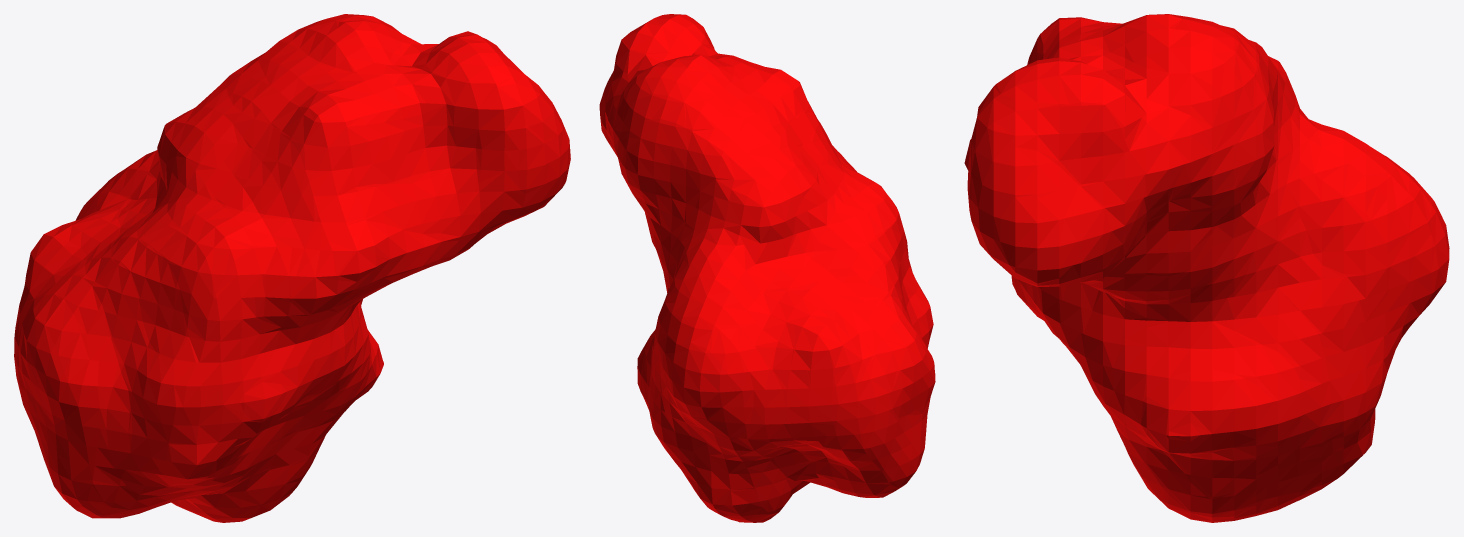
The model's file is gph_coarse.dae.
3 renders of one model, left to right at view 1: azimuth 30°, elevation 25°; view 2: azimuth 150°, elevation 25°; view 3: azimuth 270°, elevation 25°, orthographic. The views are drawn at different scales.
Parts seen in each view (by area): view 1: gph; view 2: gph; view 3: gph.
Boxes of the visible parts, bbox=[...] form: gph: bbox=[14, 14, 570, 522]; gph: bbox=[599, 14, 935, 522]; gph: bbox=[964, 14, 1449, 522].
Size of the model in its own units: 56.07 by 57.82 by 45.67.
